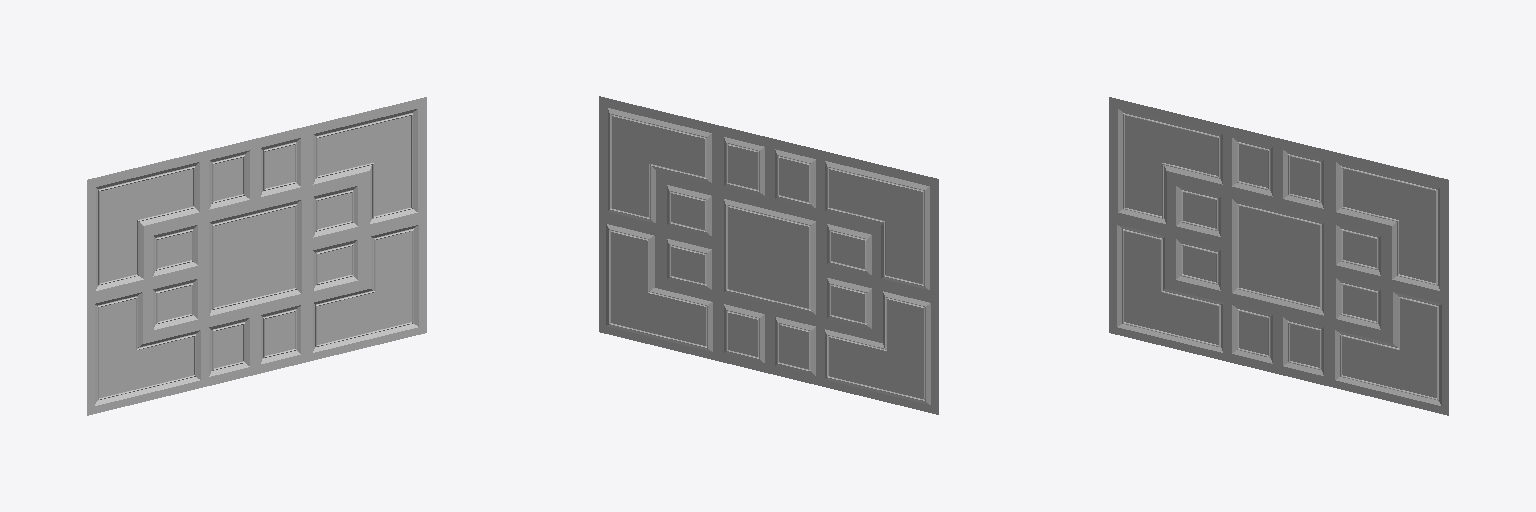
Rendered from Template.002.obj.
3 views of the same model, side by side, from view 1: azimuth 30°, elevation 25°; view 2: azimuth 150°, elevation 25°; view 3: azimuth 330°, elevation 25° (orthographic).
Parts seen in each view (by area): view 1: Template.002; view 2: Template.002; view 3: Template.002.
Boxes of the visible parts, x1,y1,x2,y2 form: Template.002: [87, 97, 426, 415]; Template.002: [599, 96, 938, 414]; Template.002: [1109, 97, 1448, 415].
Size of the model in its own units: 1.6 by 1.06 by 0.0105.